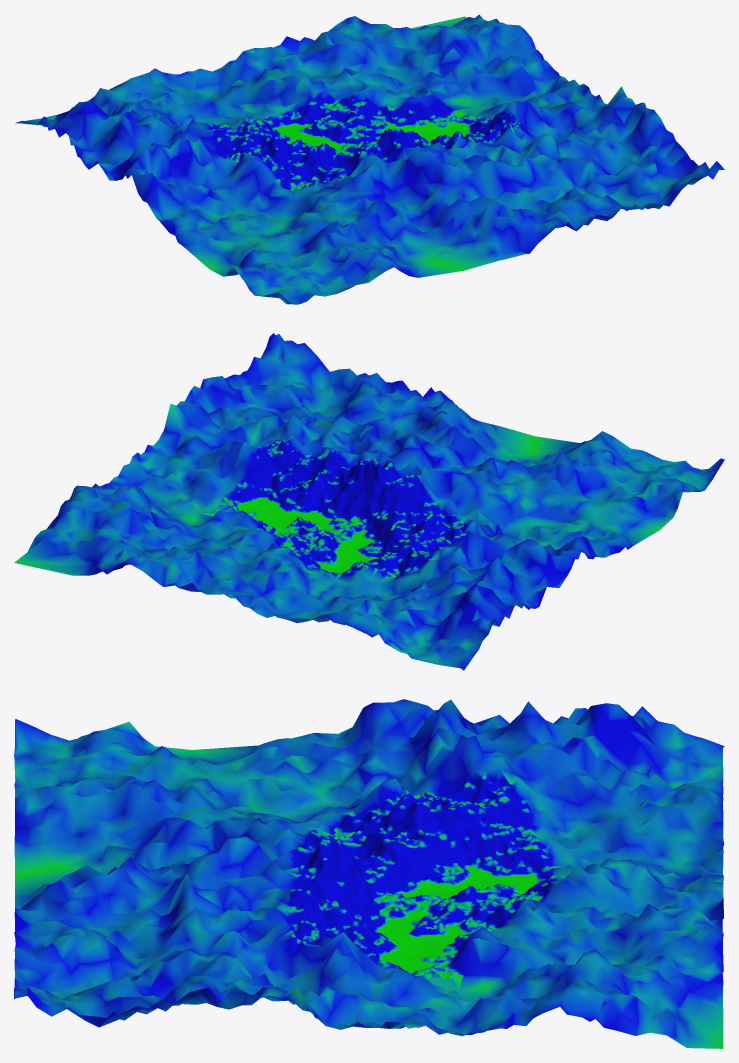
The model's file is Terrain.fbx.
3 renders of one model, top to bottom at view 1: azimuth 30°, elevation 25°; view 2: azimuth 150°, elevation 25°; view 3: azimuth 270°, elevation 25°, orthographic. The views are drawn at different scales.
Visible parts, largest first — view 1: Plane; view 2: Plane; view 3: Plane.
Boxes of the visible parts, x1,y1,x2,y2 form: Plane: [15, 14, 724, 304]; Plane: [14, 333, 724, 670]; Plane: [14, 699, 724, 1048].
Bounding box in the file's own units: 50198 × 5803 × 50196.
